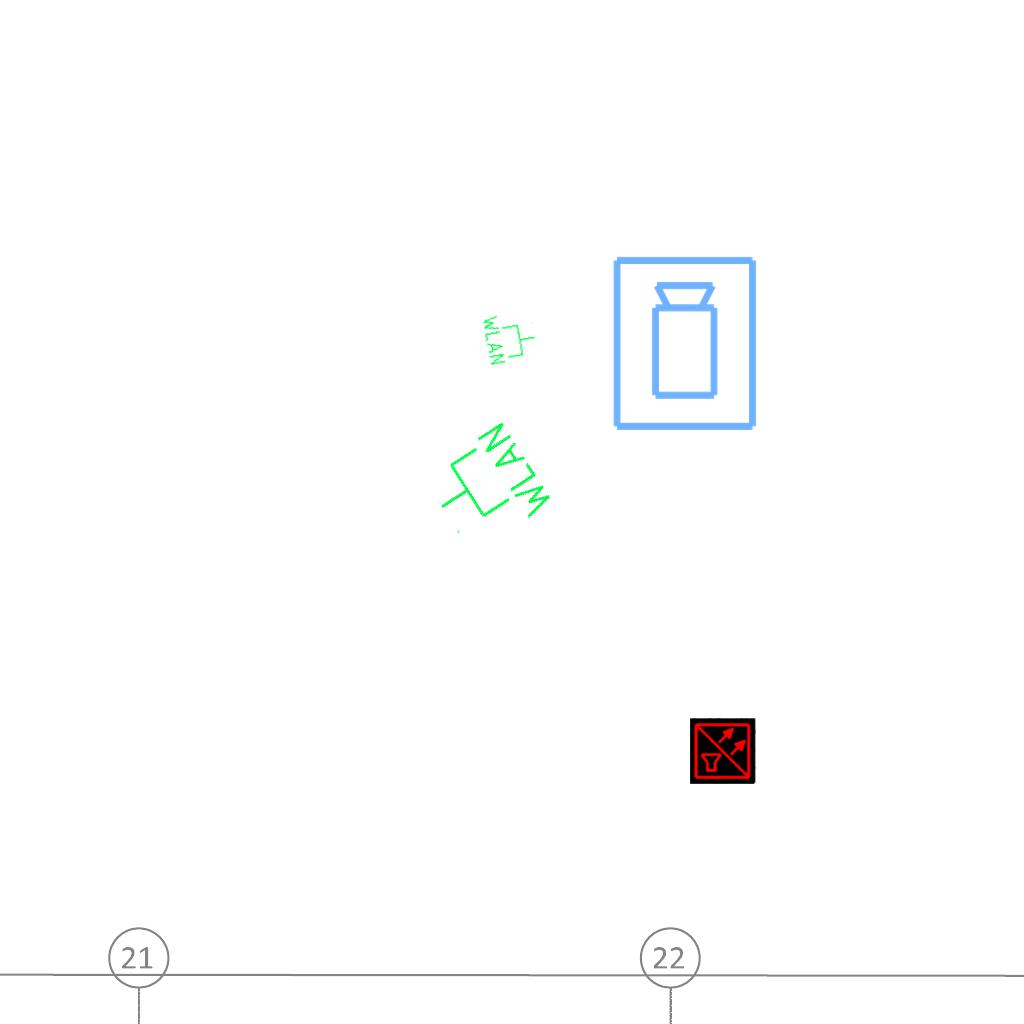KFO_Kamera_mit_Festobjektiv: (609, 253, 763, 435)
OKW_Multisensormelder_(Kombination_optischer_Rauch-Kahlenmonoxid_Waerme-Melder): (690, 718, 756, 784)
WLAN: (415, 416, 561, 561), (479, 306, 541, 368)
